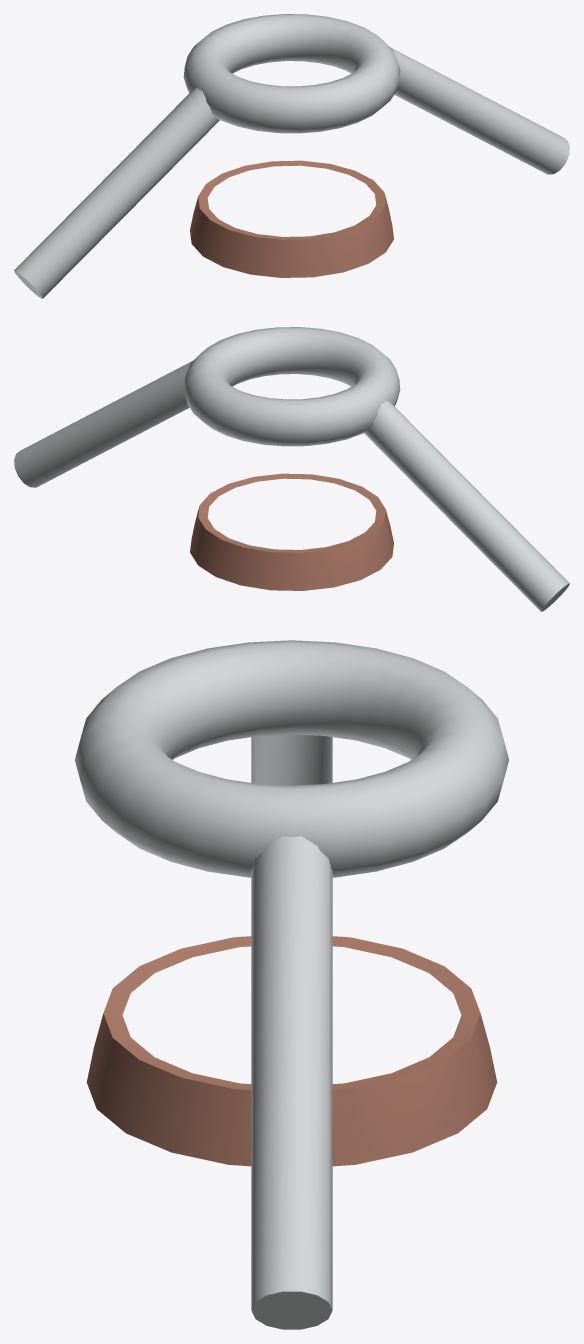
The model's file is det-dodge-fountain.glb.
3 renders of one model, top to bottom at view 1: azimuth 30°, elevation 25°; view 2: azimuth 150°, elevation 25°; view 3: azimuth 270°, elevation 25°, orthographic. The views are drawn at different scales.
Visible parts, largest first — view 1: Horace E. Dodge and Son Memorial Fountain; view 2: Horace E. Dodge and Son Memorial Fountain; view 3: Horace E. Dodge and Son Memorial Fountain.
Boxes of the visible parts, x1,y1,x2,y2 form: Horace E. Dodge and Son Memorial Fountain: (14, 14, 569, 298); Horace E. Dodge and Son Memorial Fountain: (14, 327, 569, 611); Horace E. Dodge and Son Memorial Fountain: (75, 640, 508, 1329).
Bounding box in the file's own units: 26.48 × 8.45 × 9.1.
